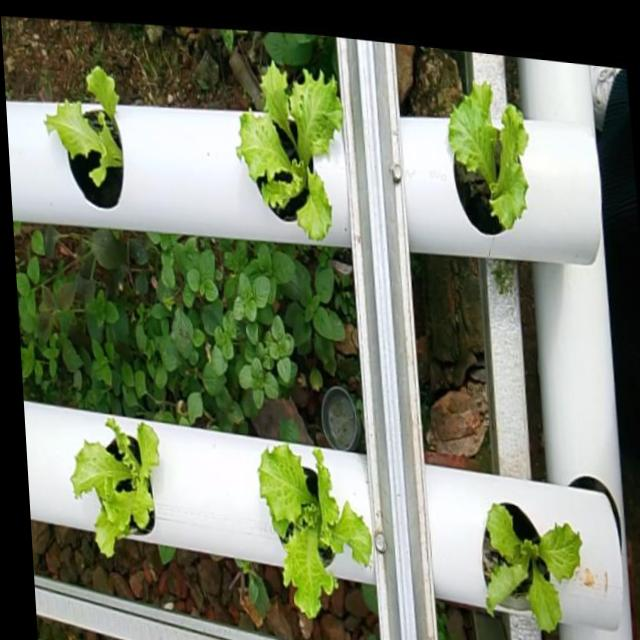Baby: (262, 441, 376, 615), (240, 57, 346, 238), (486, 497, 586, 628), (451, 78, 531, 231), (76, 418, 164, 557), (49, 68, 127, 210)
